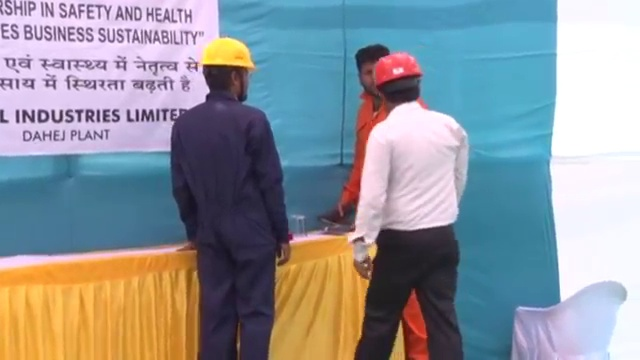helmet: (199, 36, 259, 71), (373, 53, 426, 86)
helmet_off: (354, 45, 390, 94)
helmet_on: (198, 35, 259, 104), (372, 52, 425, 113)
person: (167, 34, 293, 360), (353, 54, 465, 360), (336, 44, 391, 224)
